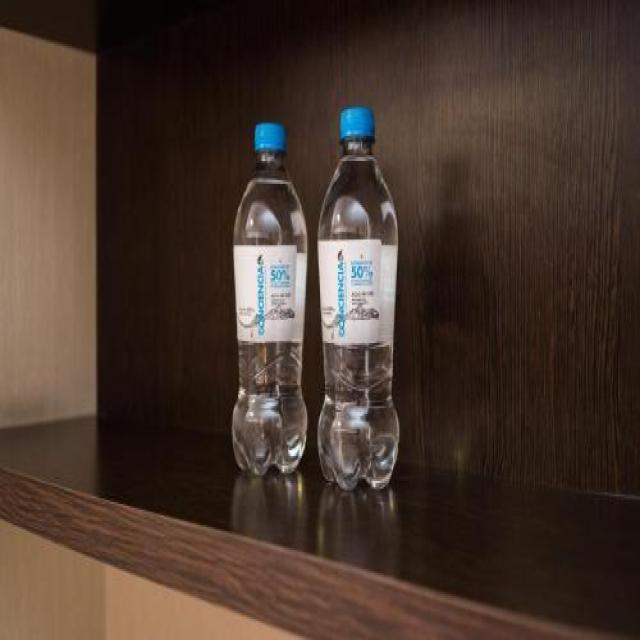bottle: (316, 95, 402, 507), (225, 111, 314, 483)
